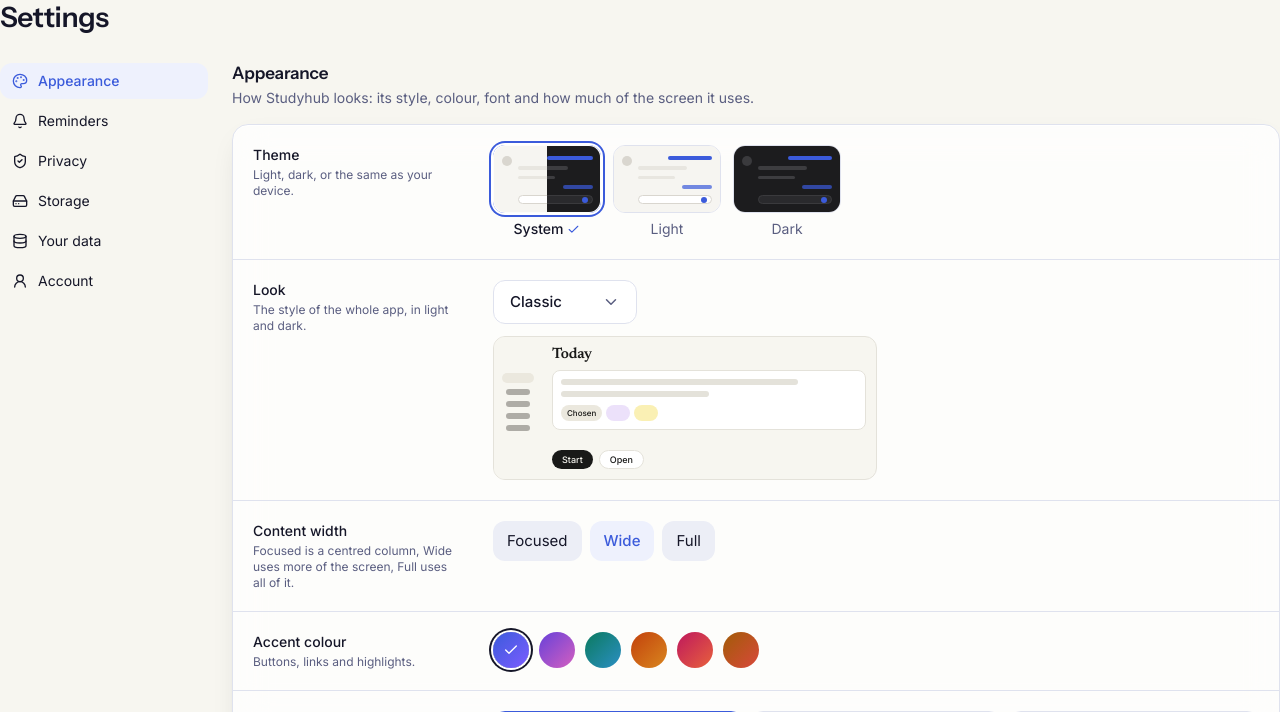
Test: Settings page › shows one section at a time: Account has Sign out, the profile pointer and the legal links
This screenshot has width=1280, height=712.
Check: the button "Sign out" is not shown
Click the button "Account" at coordinates (104, 281), box top-left (0, 263), bottom-right (208, 299)
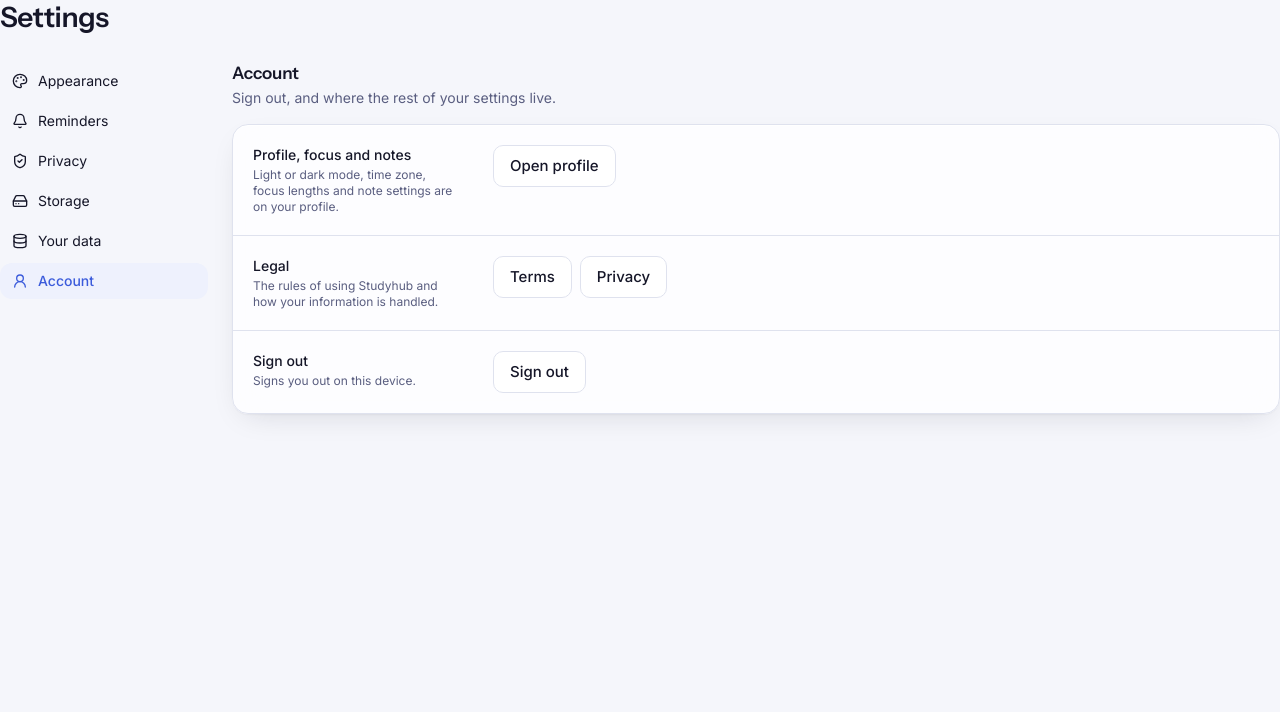
Check: the heading "Account" is shown, box top-left (232, 63), bottom-right (299, 83)
Check: the button "Sign out" is shown, box top-left (493, 351), bottom-right (586, 393)
Check: the text "Light or dark mode" is shown, box top-left (253, 167), bottom-right (452, 214)
